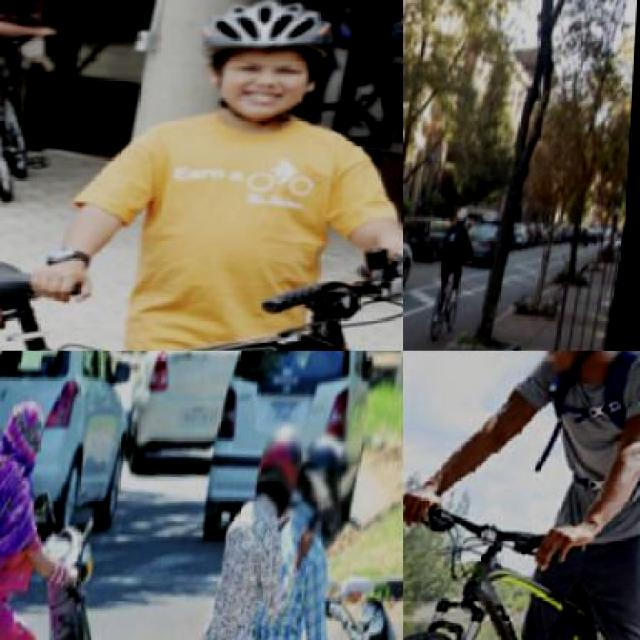With Helmet: (174, 0, 358, 148), (291, 421, 363, 550), (254, 422, 314, 526), (523, 351, 639, 398), (454, 202, 478, 236)
Without Helmet: (0, 378, 57, 482)
